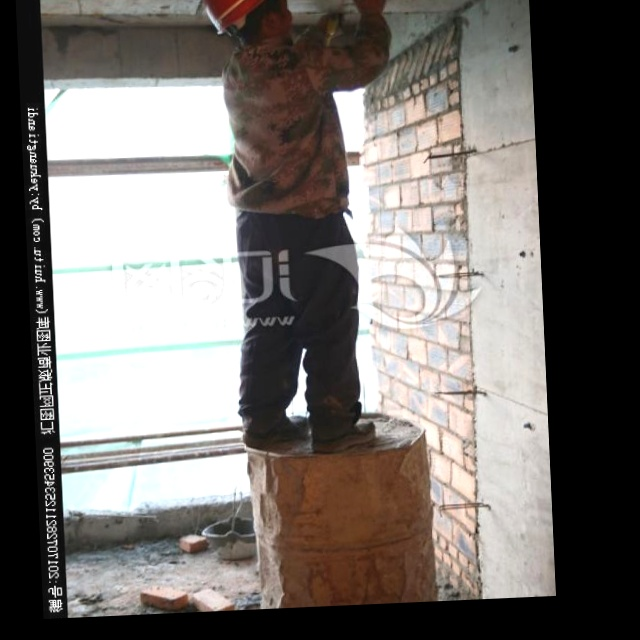Con_Casco: (203, 0, 286, 48)
